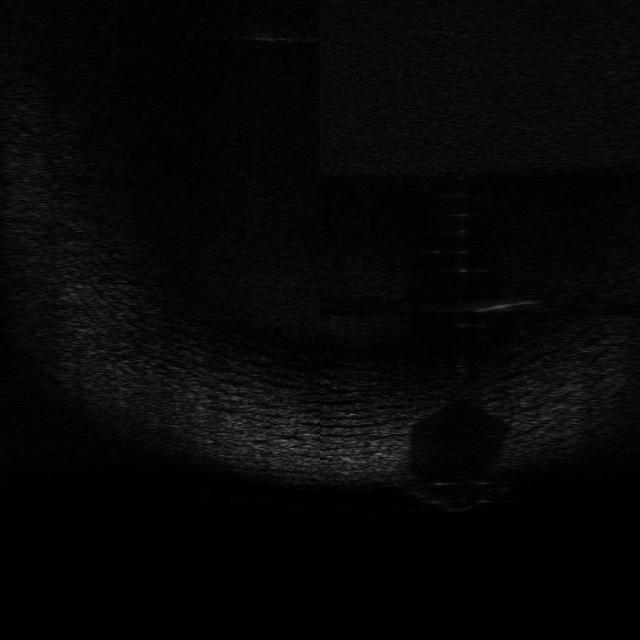cube: (414, 472, 510, 514)
